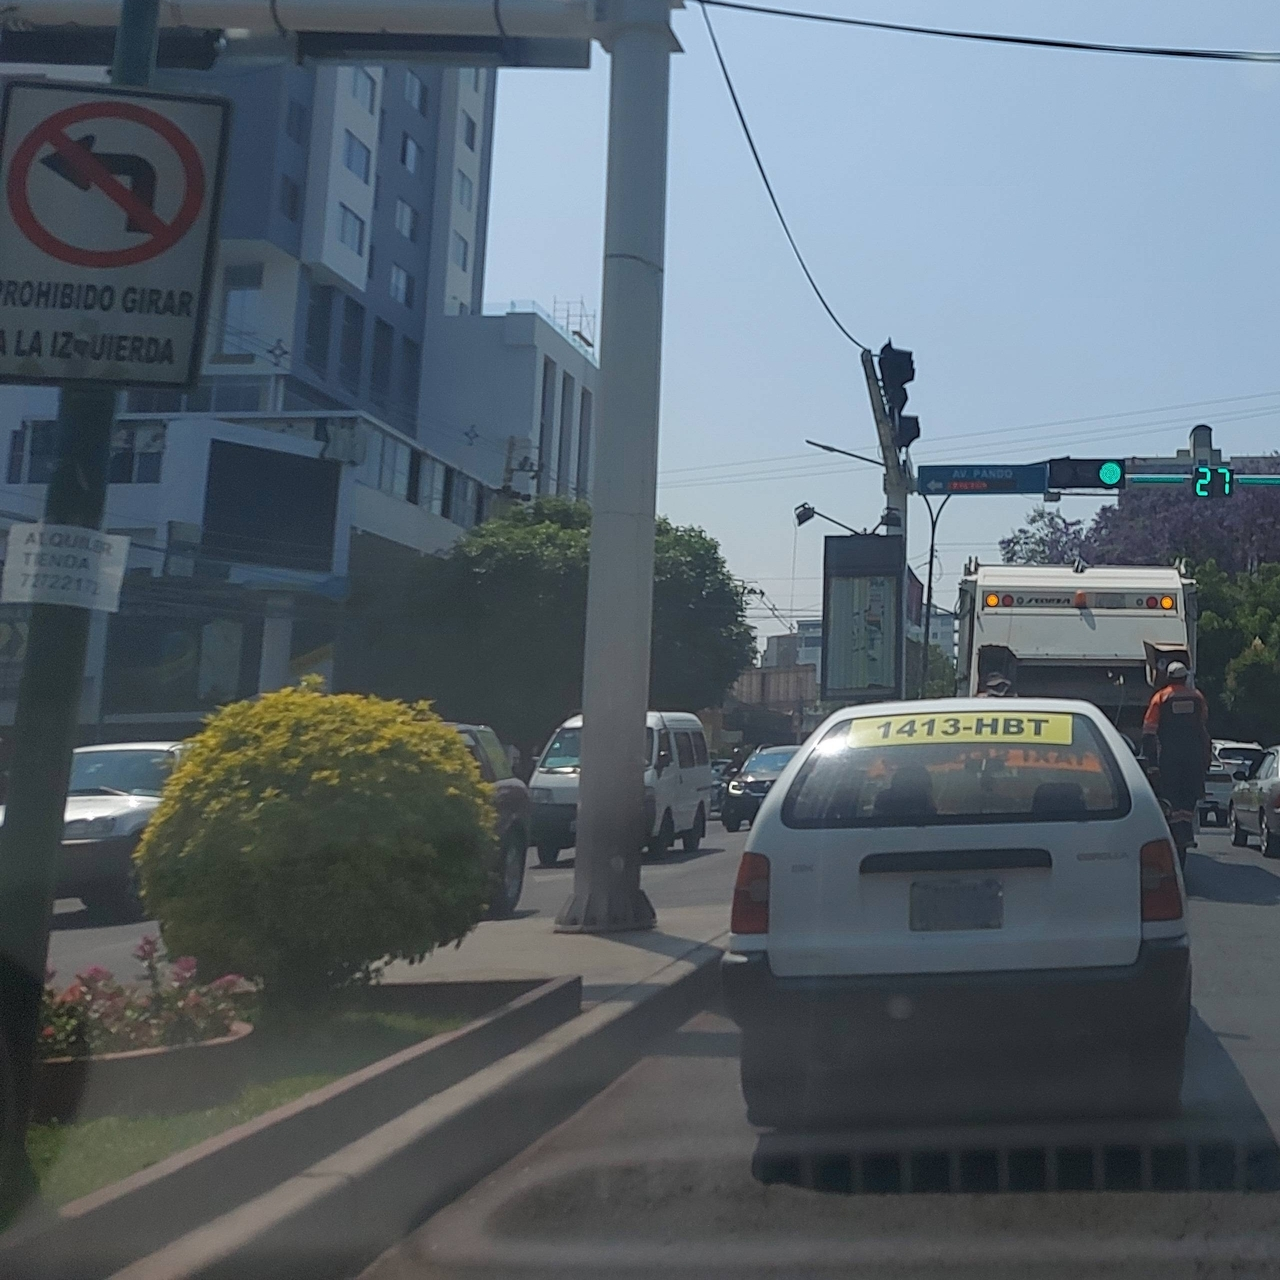prohibido-girar-izquierda: (0, 82, 231, 394)
